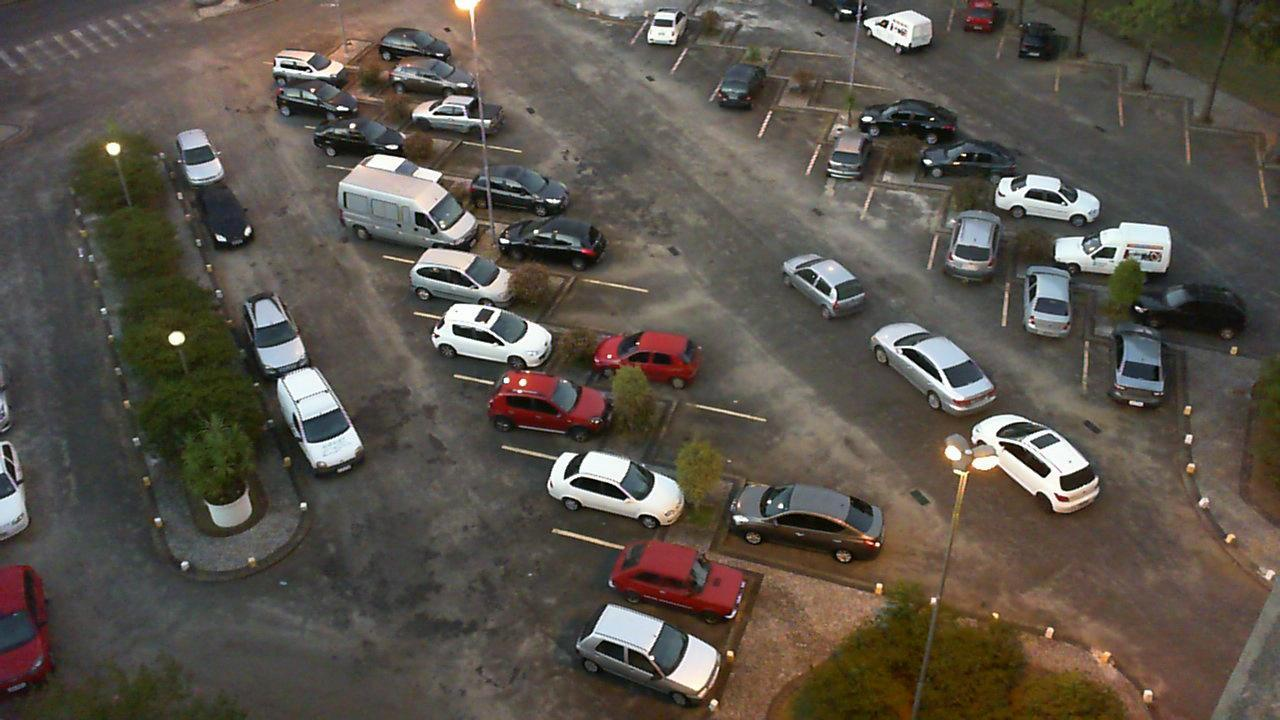empty: (634, 397, 776, 485), (543, 264, 673, 334), (863, 183, 946, 253), (760, 104, 832, 172), (445, 132, 544, 181), (819, 68, 916, 116), (670, 45, 745, 106), (1123, 84, 1182, 153), (732, 12, 821, 53), (1057, 56, 1118, 113), (778, 43, 857, 84)
occupied: (608, 526, 775, 654), (542, 439, 695, 539), (730, 478, 865, 570), (491, 366, 626, 456), (446, 304, 573, 386), (603, 324, 724, 402), (1139, 292, 1260, 362), (1083, 341, 1181, 421), (508, 216, 630, 277), (408, 252, 524, 316), (384, 198, 497, 263), (1065, 231, 1169, 296), (473, 167, 589, 225), (935, 223, 1013, 307), (1005, 271, 1085, 351), (992, 185, 1105, 240), (404, 88, 515, 143), (343, 156, 450, 211), (801, 137, 884, 205), (316, 113, 413, 169), (927, 140, 1028, 191), (629, 10, 703, 77), (709, 71, 784, 130), (301, 84, 393, 130), (867, 105, 955, 150), (278, 51, 364, 97), (349, 35, 438, 76), (383, 65, 472, 105), (1000, 25, 1064, 80)
